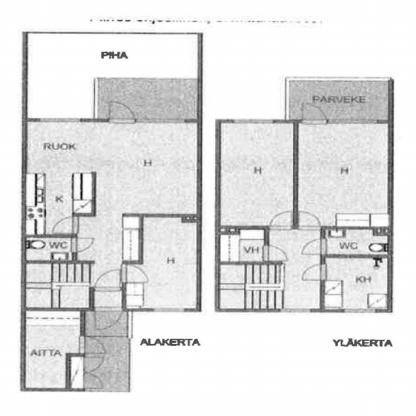door: (106, 102, 137, 127), (91, 307, 123, 329), (84, 359, 110, 386), (96, 267, 120, 296), (300, 102, 326, 125), (48, 216, 81, 234), (296, 211, 323, 233), (122, 262, 146, 283), (67, 238, 98, 254), (262, 244, 288, 262), (304, 265, 328, 283), (267, 211, 291, 229), (78, 337, 106, 352), (299, 242, 329, 256)
window: (155, 304, 185, 316), (232, 118, 272, 125), (38, 118, 81, 123), (343, 309, 376, 315), (282, 308, 308, 314)
zone: (27, 122, 198, 258), (27, 33, 196, 119), (295, 123, 385, 226), (220, 228, 322, 309), (220, 122, 290, 224), (120, 212, 195, 307), (24, 307, 86, 388), (288, 79, 388, 120), (85, 313, 128, 387), (24, 262, 92, 308), (327, 258, 386, 308), (218, 226, 264, 261), (322, 229, 386, 251)
